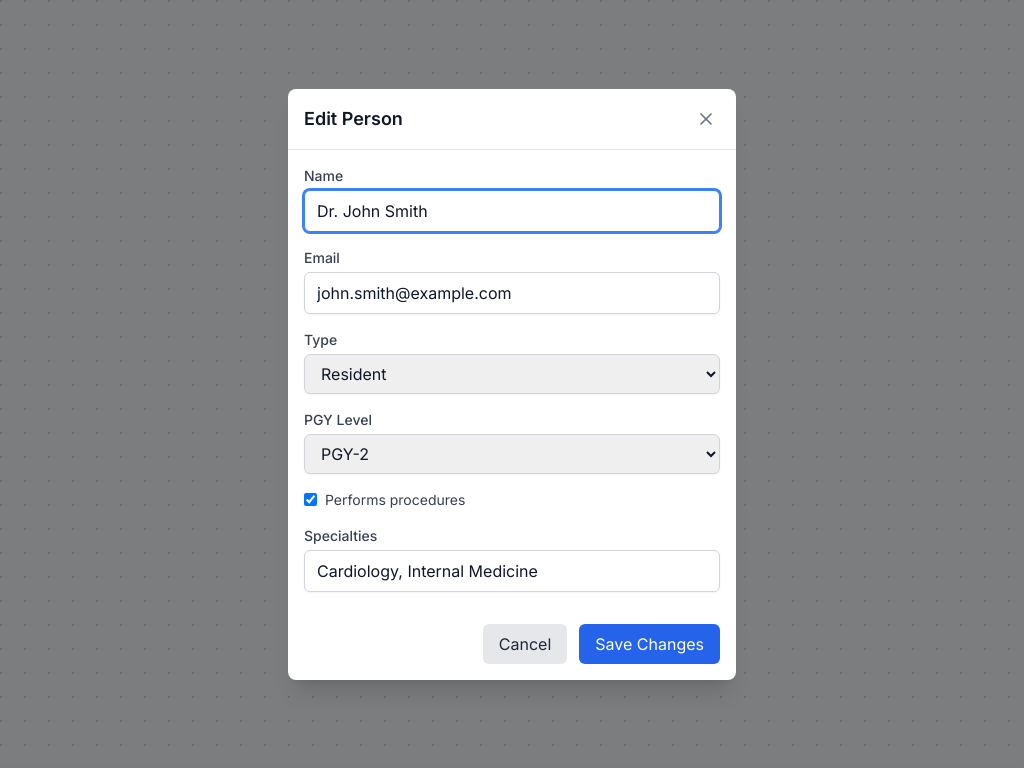
Scenario: EditPersonModal › Form Validation › should show error when name is empty
The width and height of the screenshot is (1024, 768).
Clear the field labelled "Name": (512, 210) [304,190,720,232]
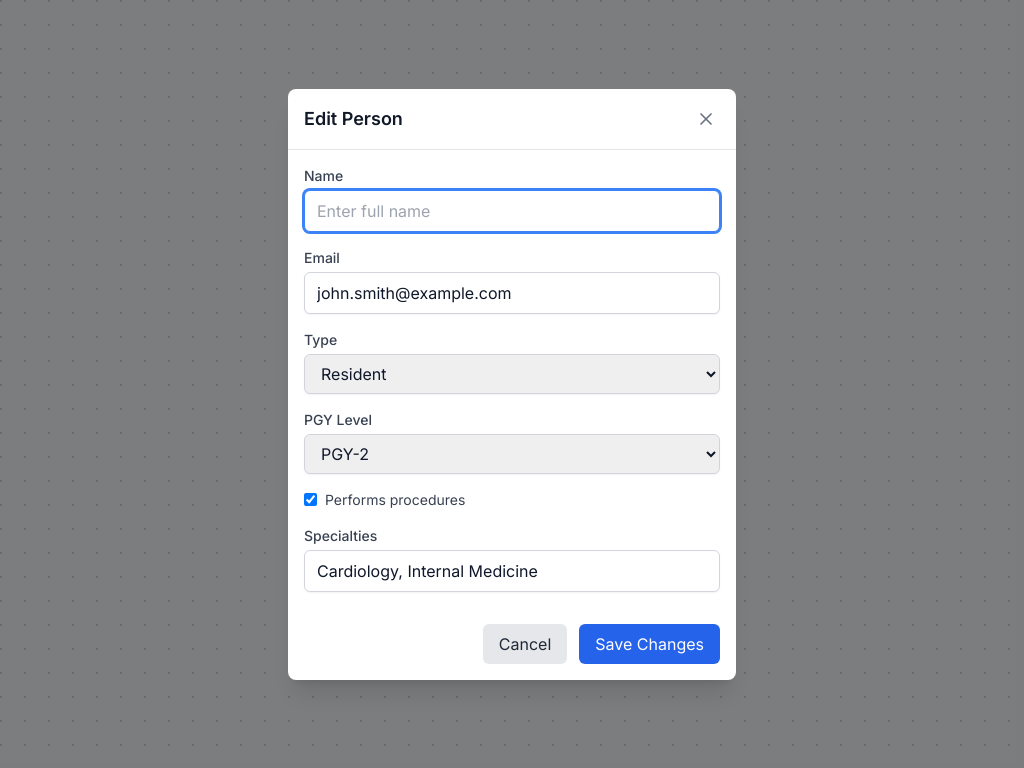
Submit the form labelled "Name", box [304,166,720,664]
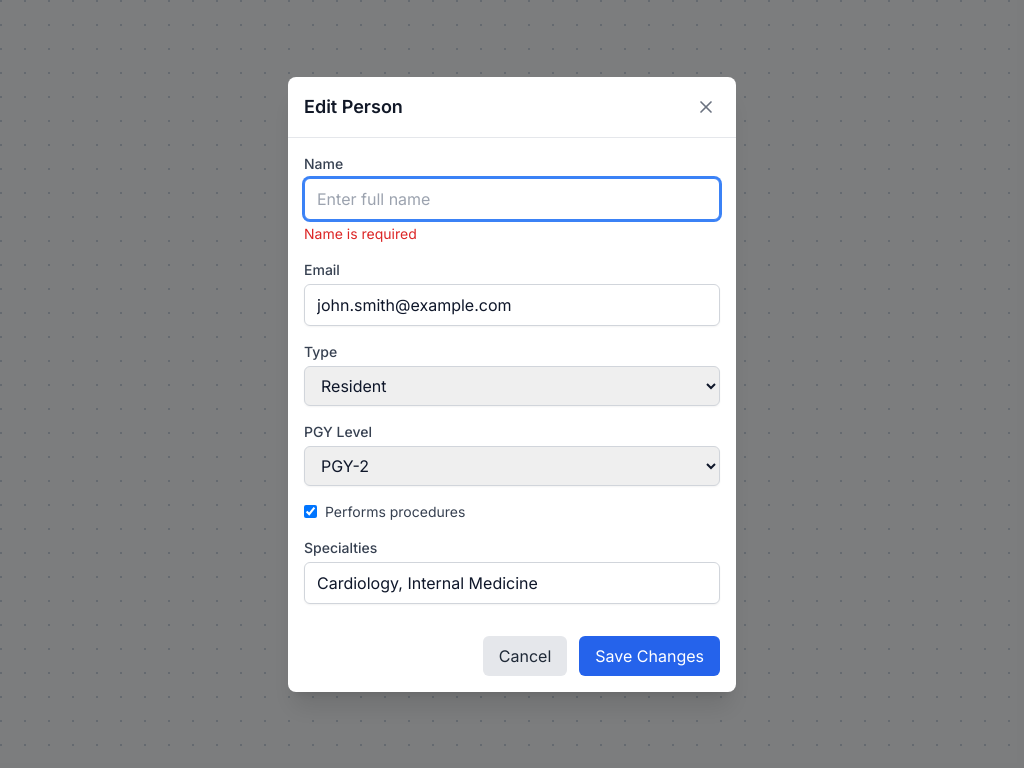
Expected: the text "Name is required" is shown, [304,224,417,242]
